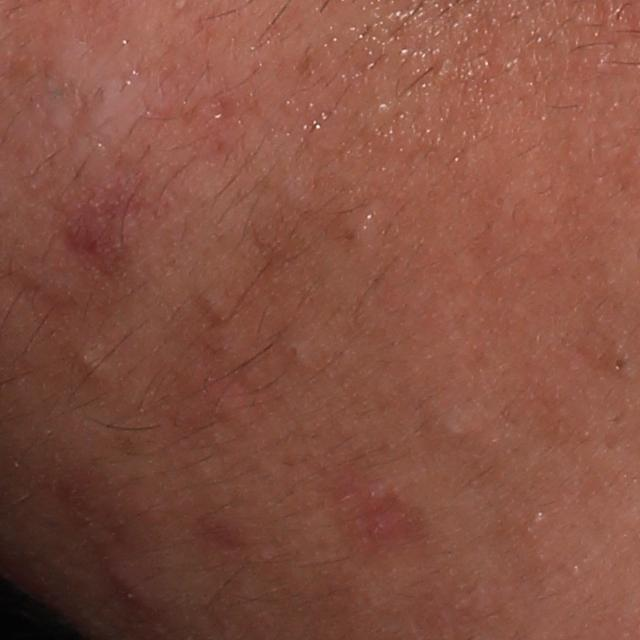comedo: (72, 339, 106, 380), (437, 409, 466, 439), (199, 288, 224, 319), (283, 338, 307, 360)
papule: (107, 564, 159, 610)
